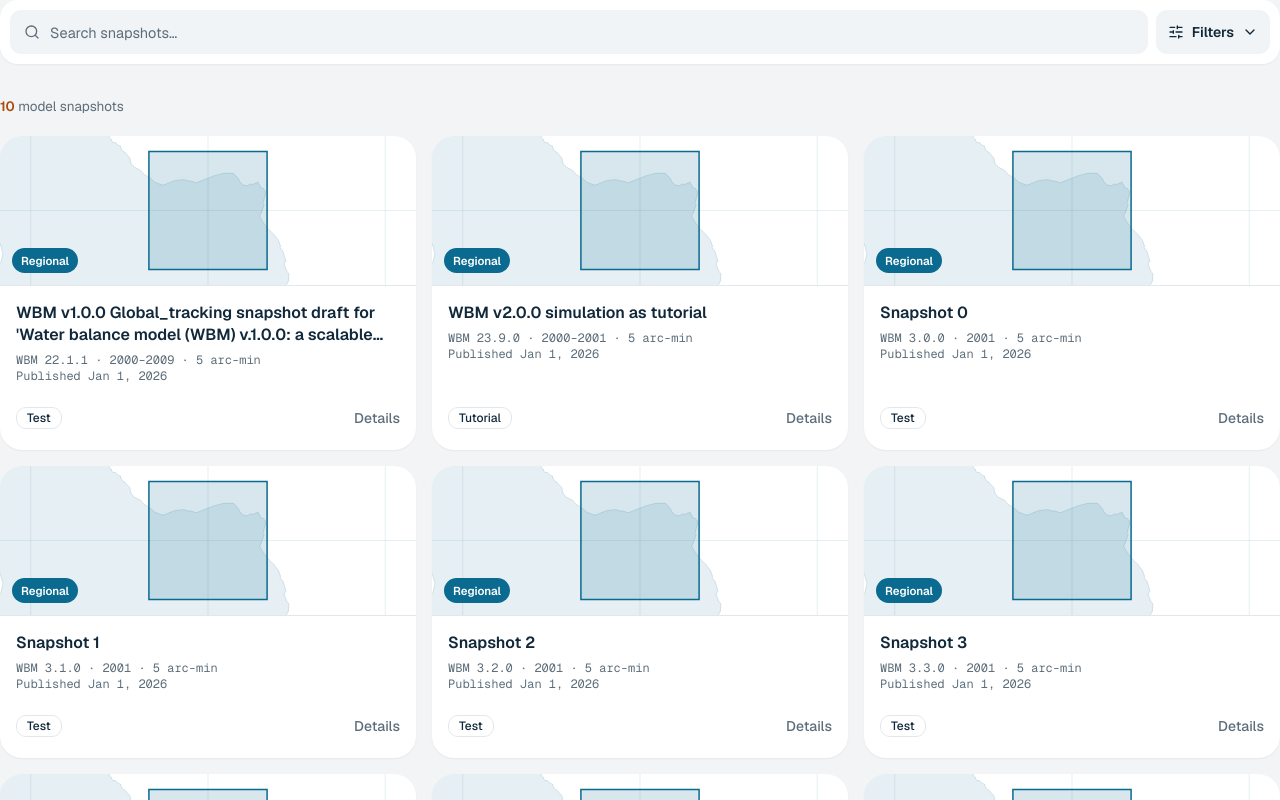
it: the Details sheet › closes with its close button and with Escape, without selecting
Click the button "Details" below "WBM 22.1.1 · 2000–2009 · 5 arc-min" at [377, 418], box [346,402,408,434]
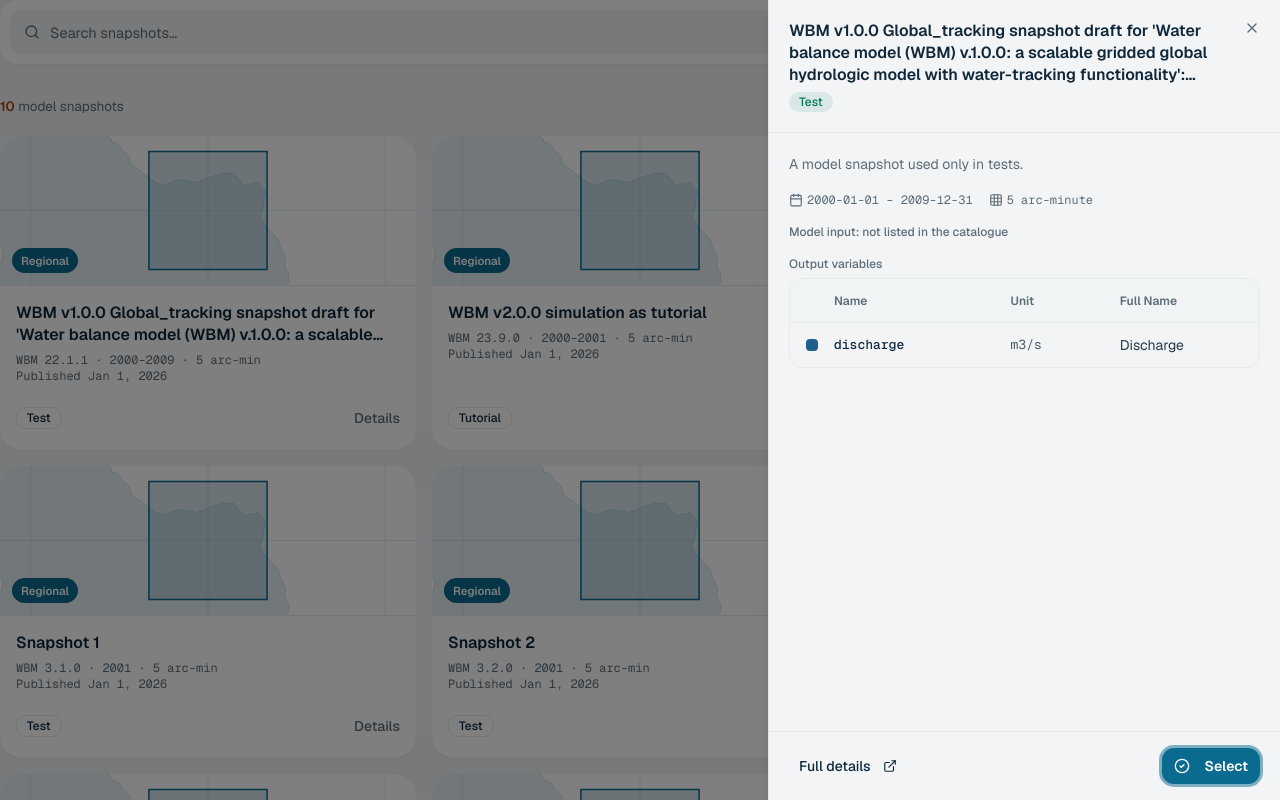
Click the button named "Close" at [1252, 28], box [1236,12,1268,44]
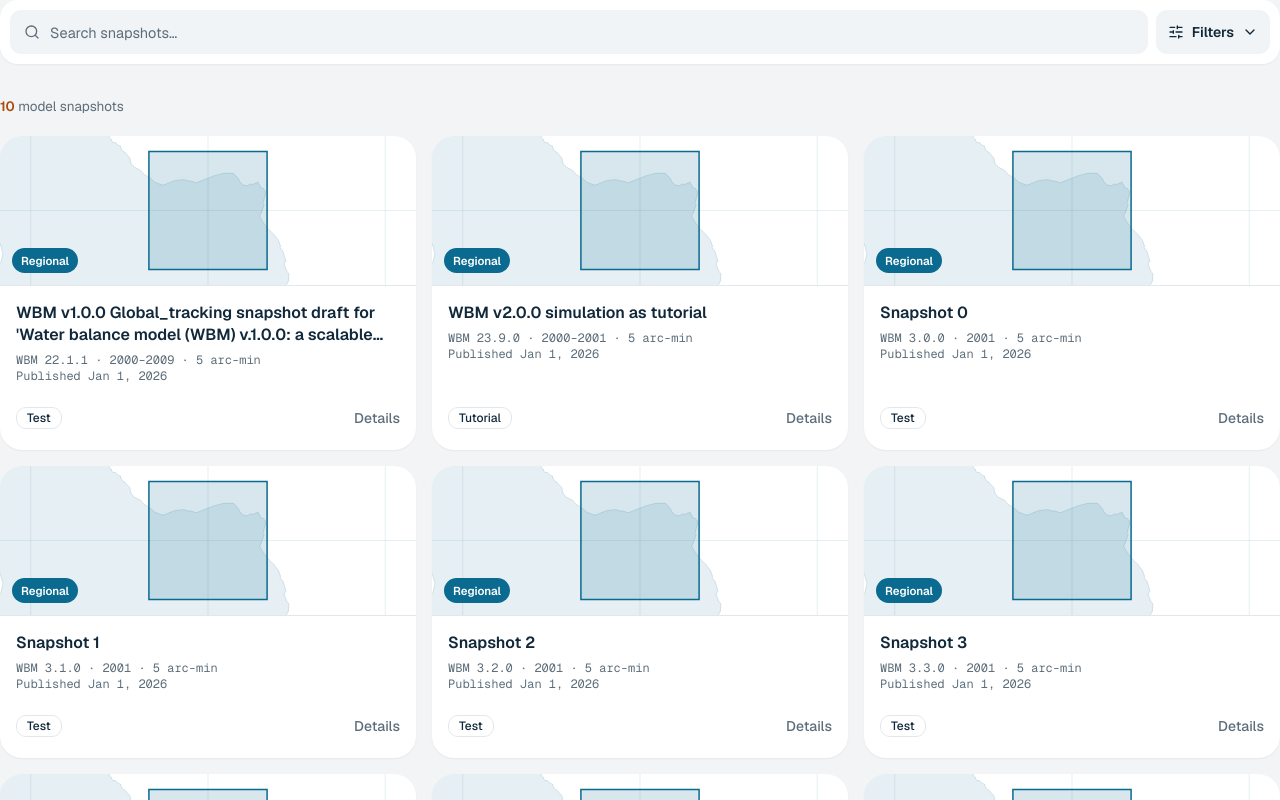
Now the dialog is gone
Click the button "Details" below "WBM 22.1.1 · 2000–2009 · 5 arc-min" at [377, 418], box [346,402,408,434]
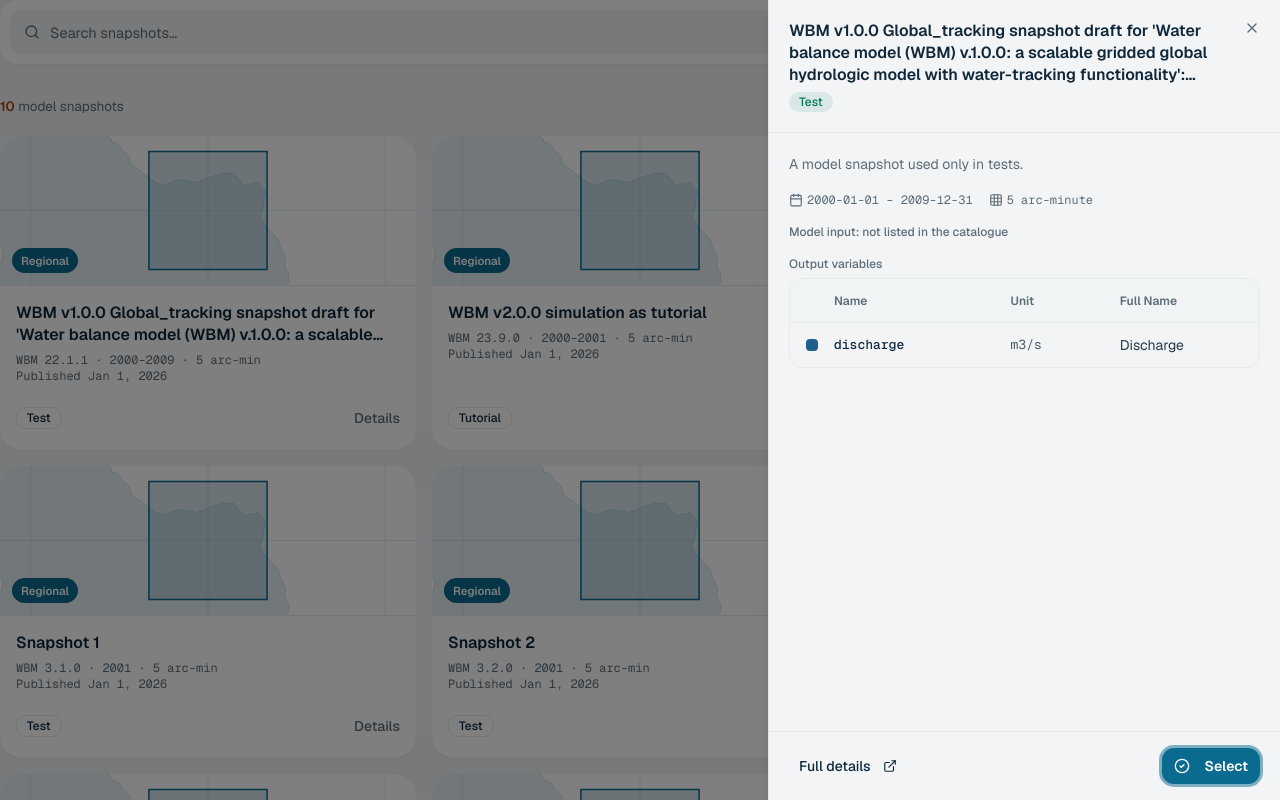
Press Escape in the dialog, box [768,0,1279,799]
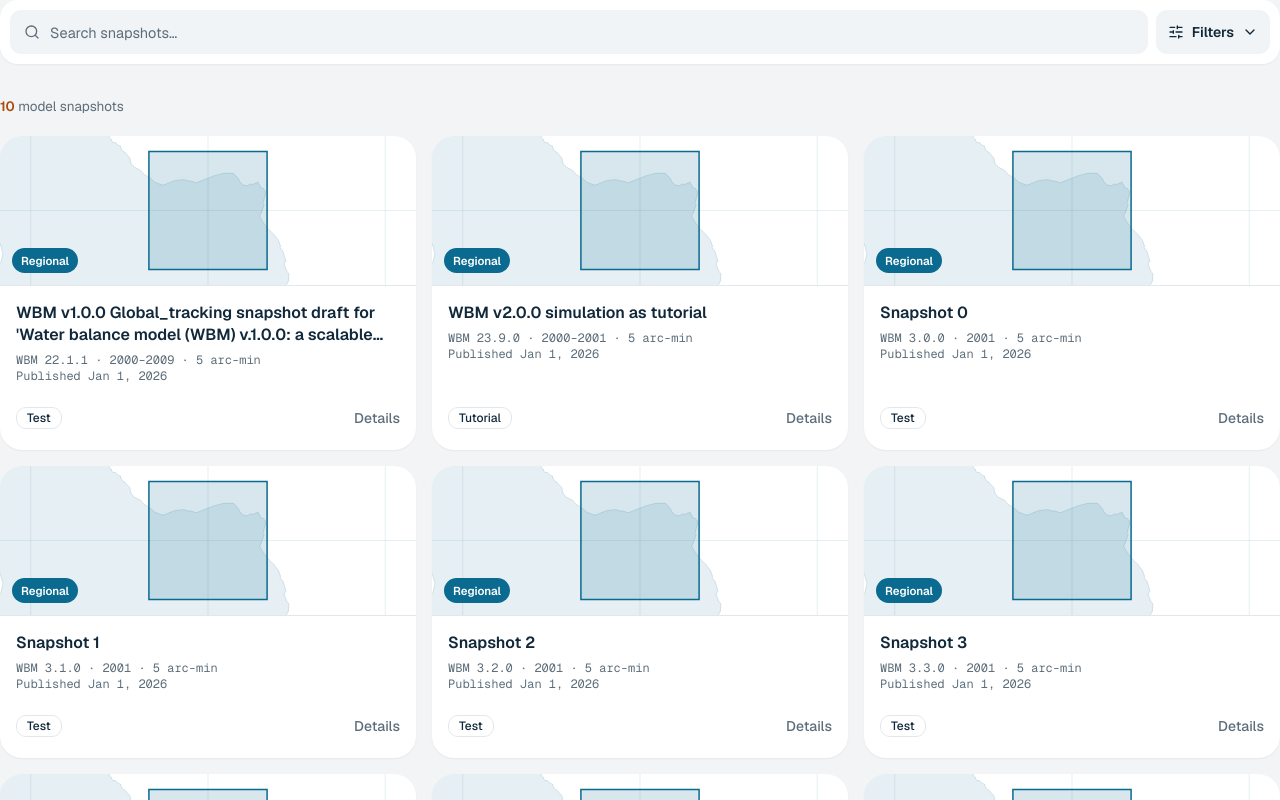
Now the dialog is gone
